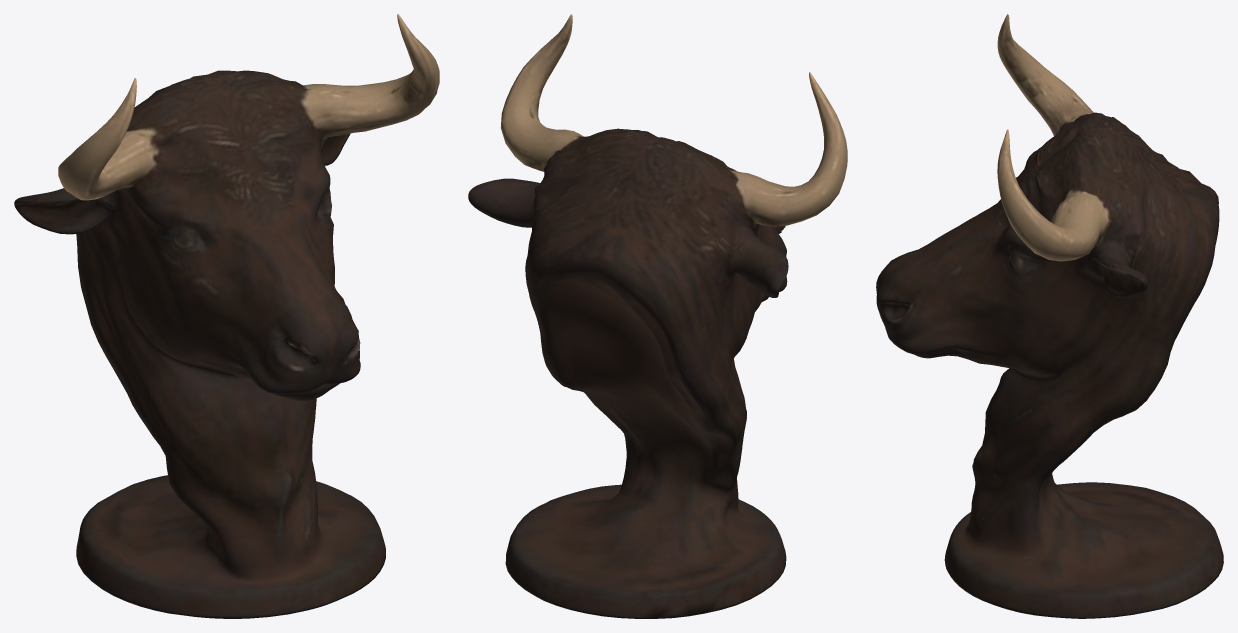
The model's file is kai.glb.
The picture shows the model from 3 angles, left to right: view 1: azimuth 30°, elevation 25°; view 2: azimuth 150°, elevation 25°; view 3: azimuth 270°, elevation 25°; orthographic projection. The views are drawn at different scales.
Parts seen in each view (by area): view 1: bull_head; view 2: bull_head; view 3: bull_head.
Part boxes in pixels (x1,y1,x2,y2): bull_head: [14, 14, 439, 618]; bull_head: [468, 14, 847, 618]; bull_head: [876, 14, 1223, 618].
Bounding box in the file's own units: 0.3064 × 0.433 × 0.2807.
Materials: 1 (1 with a texture image).
